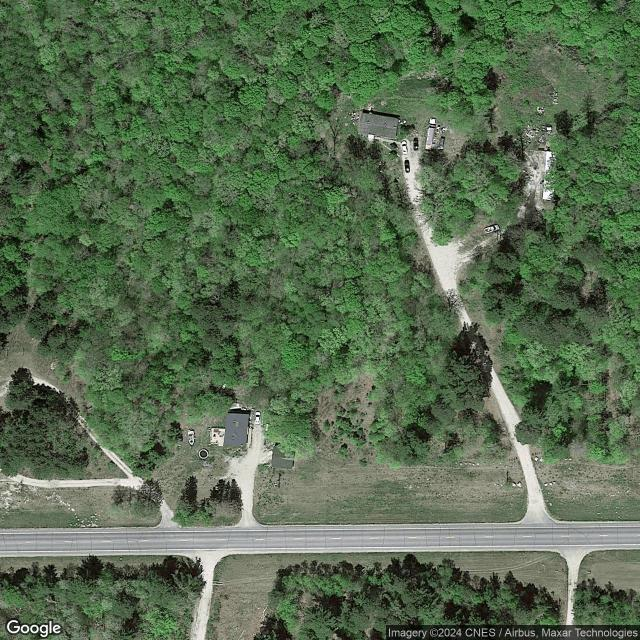Propane: (263, 422, 271, 433)
